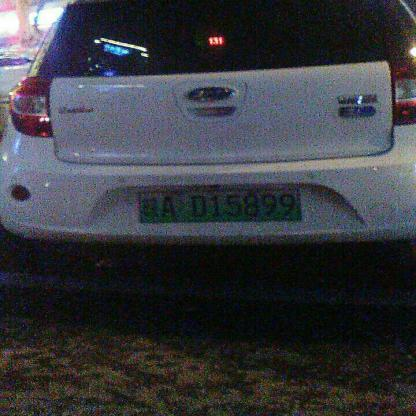lp: (139, 186, 303, 221)
